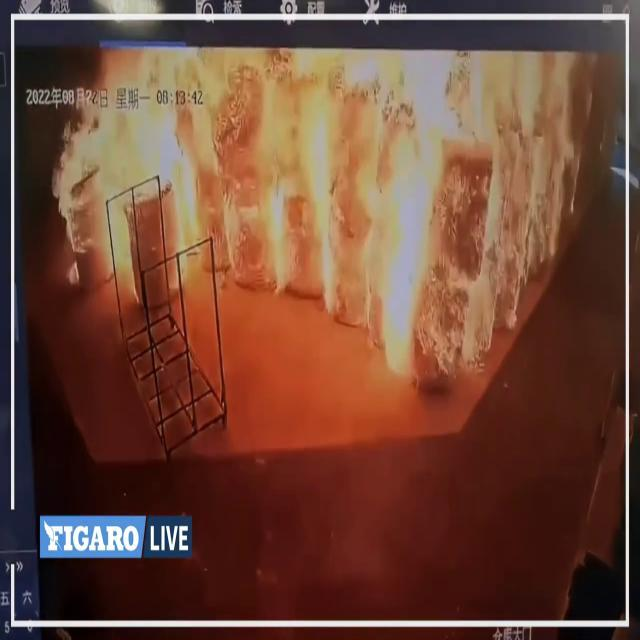Fire: (65, 48, 602, 354)
